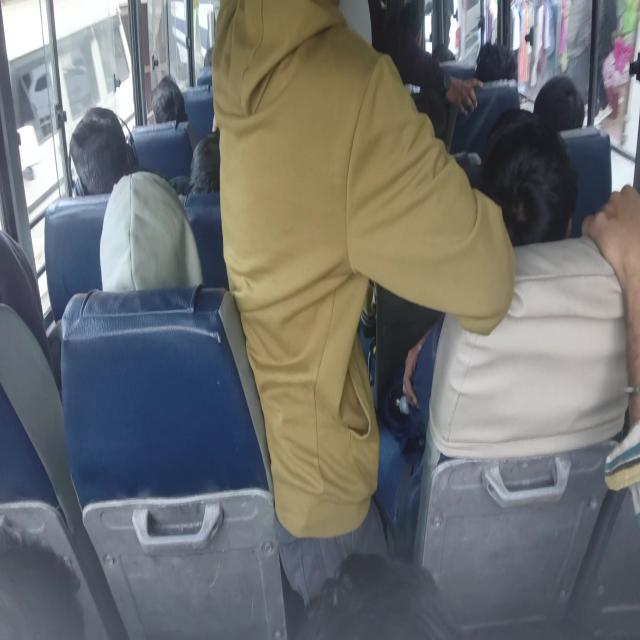person: (70, 177, 282, 502), (217, 1, 345, 115), (0, 223, 53, 395), (488, 140, 558, 220), (69, 112, 135, 176), (534, 77, 582, 131), (478, 45, 524, 96), (150, 75, 188, 127), (399, 5, 430, 66)
